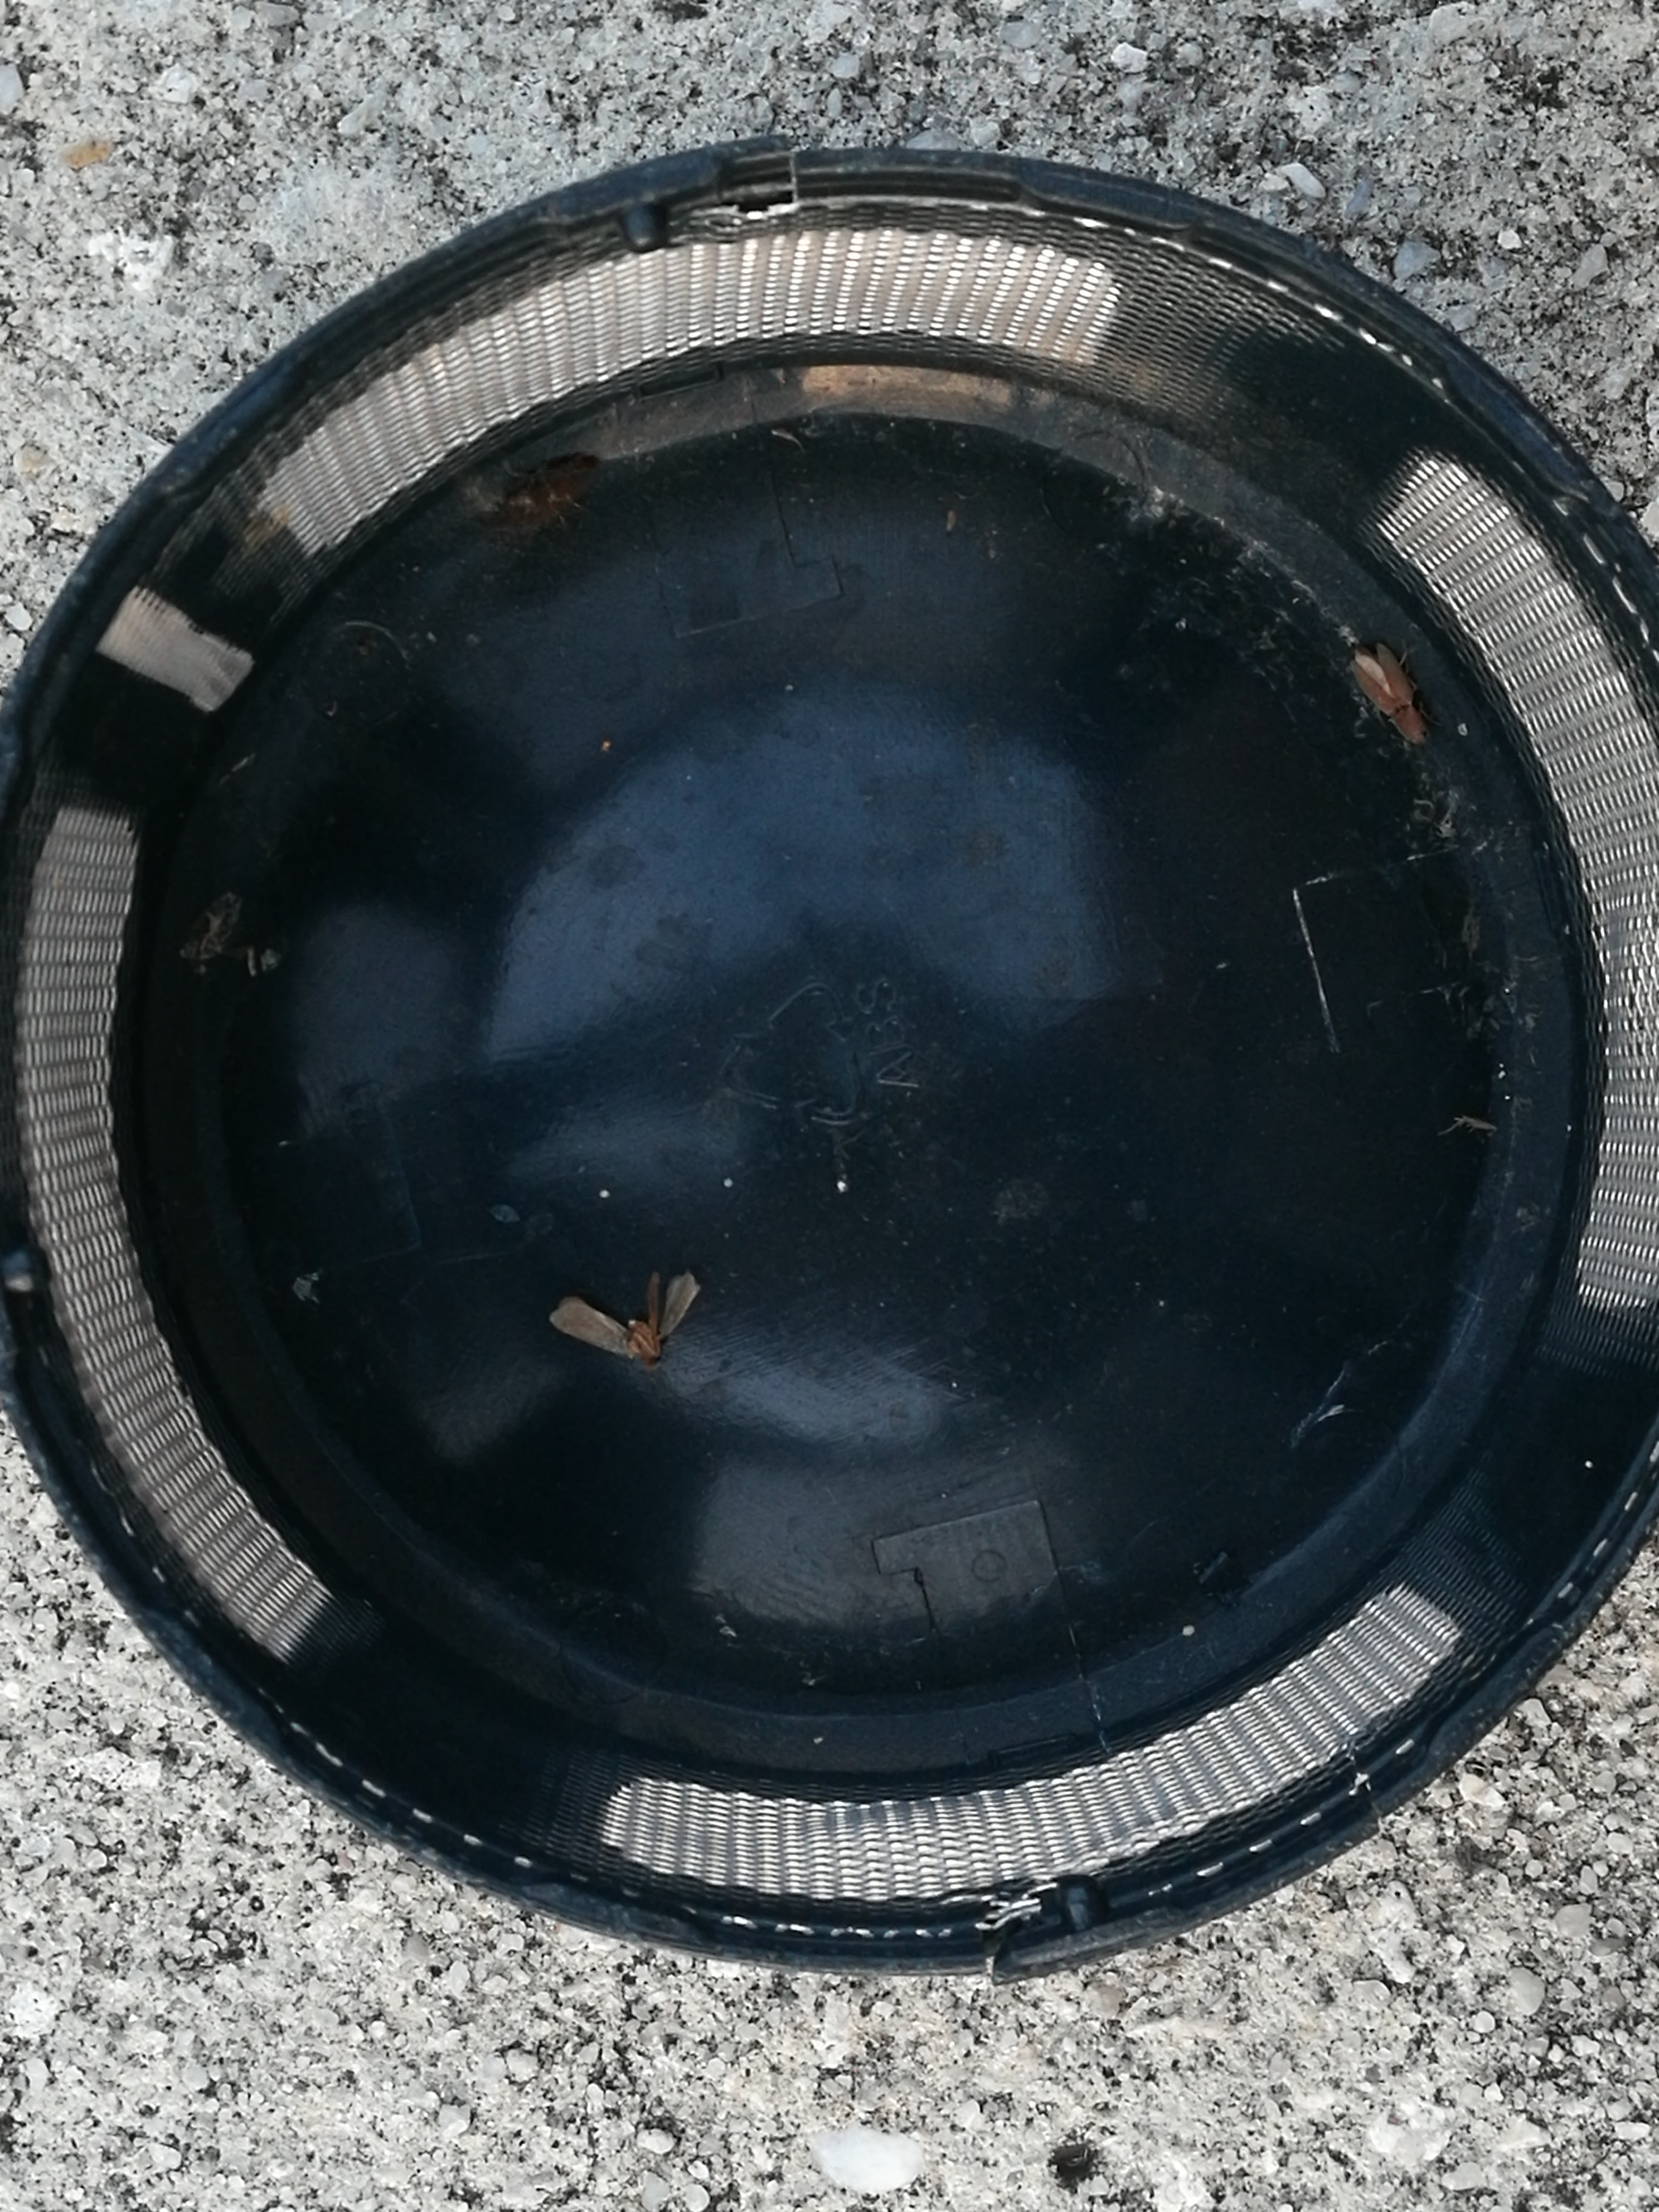mosquito: (1352, 644, 1425, 745), (498, 467, 591, 523)
moth: (549, 1268, 699, 1366)
